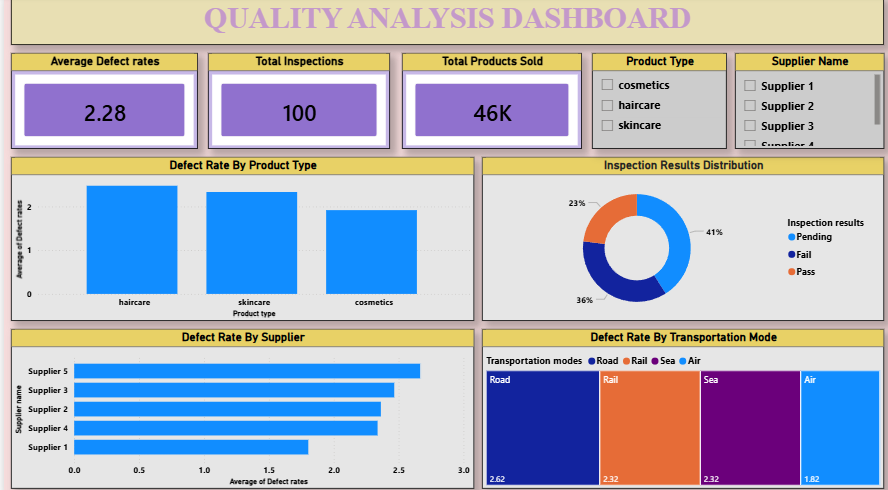

Layout of this report page (visuals, bound fields, positions):
{"tool":"powerbi","page":{"name":"Quality Analysis Dashboard ","canvas":[1280,720],"ordinal":5},"visuals":[{"type":"textbox","box":[10.2,0,1257.1,68.8],"z":0},{"type":"cardVisual","title":"Average Defect rates","fields":{"Data":["Avg(project_supply_chain_data supply_chain_data.Defect rates)"]},"box":[10.1,80.6,269.3,138.2],"z":1000},{"type":"cardVisual","title":"Total Inspections","fields":{"Data":["CountNonNull(project_supply_chain_data supply_chain_data.Inspection results)"]},"box":[293.8,80.6,262.1,138.2],"z":2000},{"type":"cardVisual","title":"Total Products Sold ","fields":{"Data":["Sum(project_supply_chain_data supply_chain_data.Number of products sold)"]},"box":[573.1,80.6,259.2,138.2],"z":3000},{"type":"clusteredColumnChart","title":"Defect Rate By Product Type","fields":{"Category":["project_supply_chain_data supply_chain_data.Product type"],"Y":["Avg(project_supply_chain_data supply_chain_data.Defect rates)"]},"box":[10.1,230.4,666.7,236.2],"z":4000},{"type":"clusteredBarChart","title":"Defect Rate By Supplier","fields":{"Category":["project_supply_chain_data supply_chain_data.Supplier name"],"Y":["Avg(project_supply_chain_data supply_chain_data.Defect rates)"]},"box":[10.1,478.1,666.7,230.4],"z":5000},{"type":"donutChart","title":"Inspection Results Distribution","fields":{"Category":["project_supply_chain_data supply_chain_data.Inspection results"],"Y":["CountNonNull(project_supply_chain_data supply_chain_data.Inspection results)"]},"box":[688.3,230.4,578.9,236.2],"z":6000},{"type":"treemap","title":"Defect Rate By Transportation Mode","fields":{"Group":["project_supply_chain_data supply_chain_data.Transportation modes"],"Values":["Avg(project_supply_chain_data supply_chain_data.Defect rates)"]},"box":[688.3,478.1,578.9,230.4],"z":7000},{"type":"slicer","title":"Product Type","fields":{"Values":["project_supply_chain_data supply_chain_data.Product type"]},"box":[846.7,80.6,194.4,138.2],"z":8000},{"type":"slicer","title":"Supplier Name ","fields":{"Values":["project_supply_chain_data supply_chain_data.Supplier name"]},"box":[1052.6,80.6,214.6,138.2],"z":9000}]}

Visuals, with their boxes in screenshot pixels (x1, y1, x2, y2), scaled from the page's 1280x720 canvas onto the 888x490 screenshot:
textbox: <region>7, 0, 879, 47</region>
"Average Defect rates" cardVisual: <region>7, 55, 194, 149</region>
"Total Inspections" cardVisual: <region>204, 55, 386, 149</region>
"Total Products Sold " cardVisual: <region>398, 55, 577, 149</region>
"Defect Rate By Product Type" clusteredColumnChart: <region>7, 157, 470, 318</region>
"Defect Rate By Supplier" clusteredBarChart: <region>7, 325, 470, 482</region>
"Inspection Results Distribution" donutChart: <region>478, 157, 879, 318</region>
"Defect Rate By Transportation Mode" treemap: <region>478, 325, 879, 482</region>
"Product Type" slicer: <region>587, 55, 722, 149</region>
"Supplier Name " slicer: <region>730, 55, 879, 149</region>
